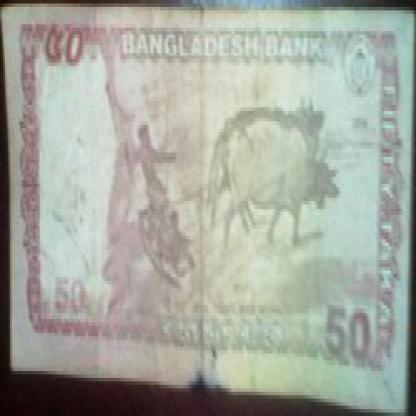Fifty taka: (321, 294, 378, 367), (37, 10, 93, 80)
